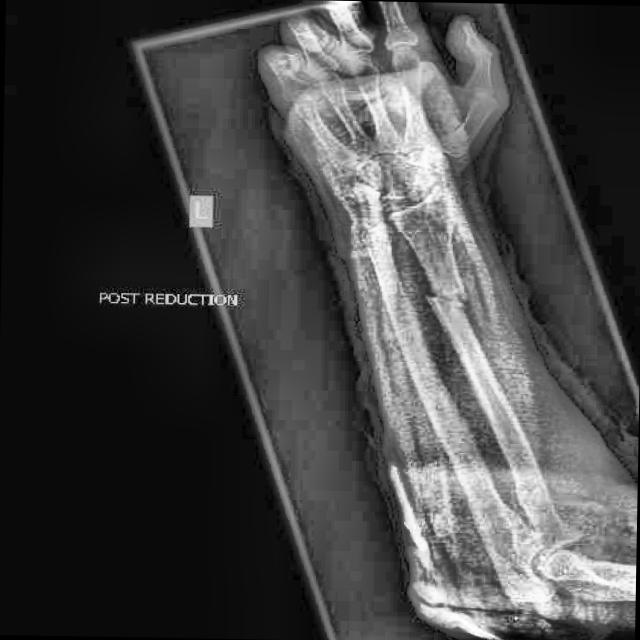forearm fracture: (397, 264, 502, 347)
